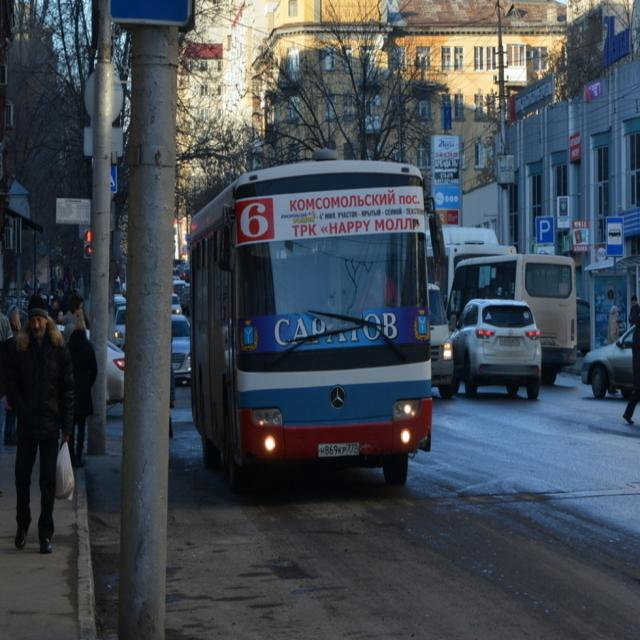number-of-bus: (241, 202, 272, 239)
